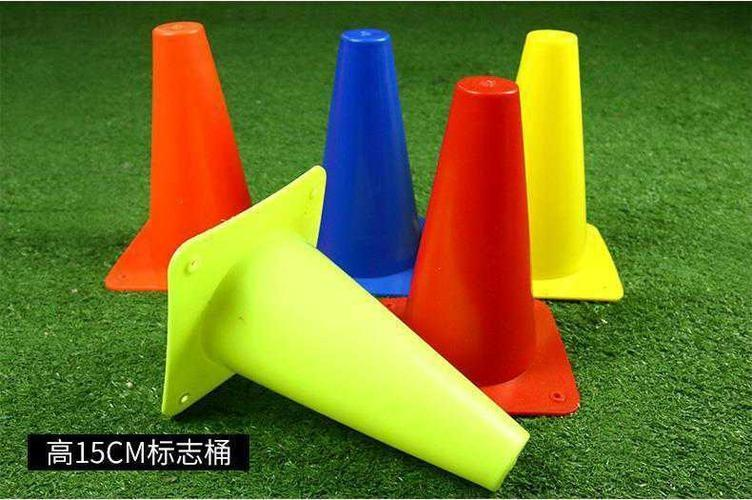cone_barrel: (172, 223, 529, 491), (391, 75, 547, 390), (109, 26, 262, 289), (302, 31, 425, 295), (509, 30, 616, 299)
